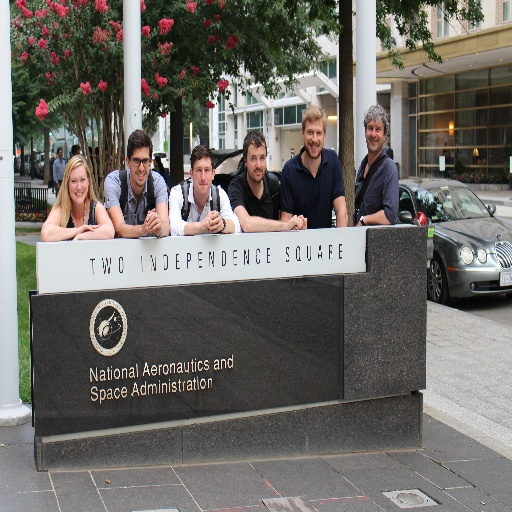hand: (144, 206, 161, 235), (208, 207, 226, 232), (142, 214, 159, 236), (201, 209, 216, 233), (285, 212, 303, 232), (76, 221, 101, 233), (294, 214, 307, 230), (55, 181, 60, 191), (72, 234, 79, 240), (356, 222, 361, 227)
